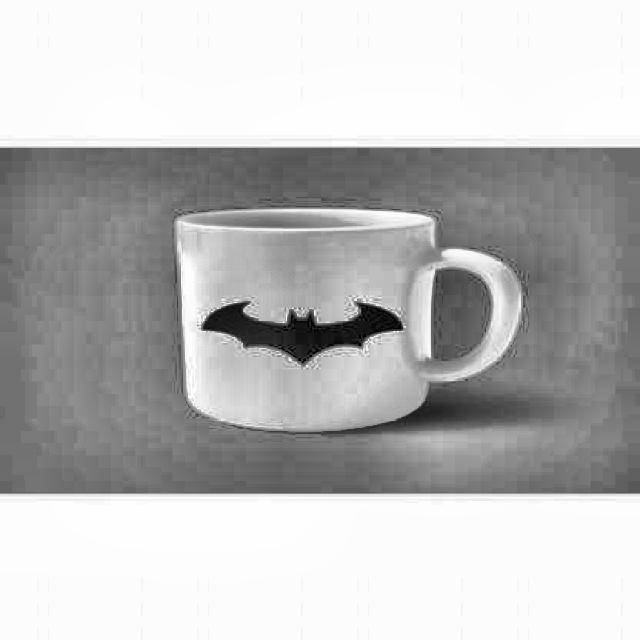Mug: (171, 204, 523, 433)
